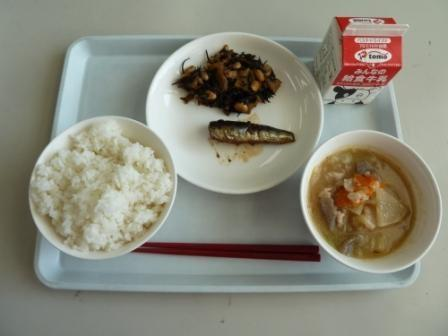Fish: (199, 114, 300, 159)
Milk: (316, 7, 411, 104)
Rice: (20, 115, 173, 255)
Soups: (305, 135, 440, 262)
salad with sauce: (167, 45, 289, 118)
